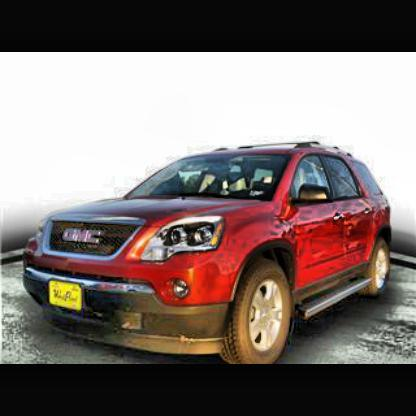GMC Acadia SUV 2012: (23, 140, 400, 359)
